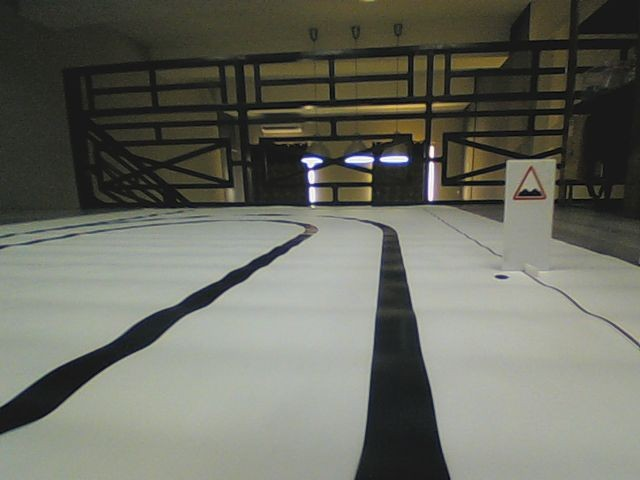Nerov: (512, 164, 548, 201)
